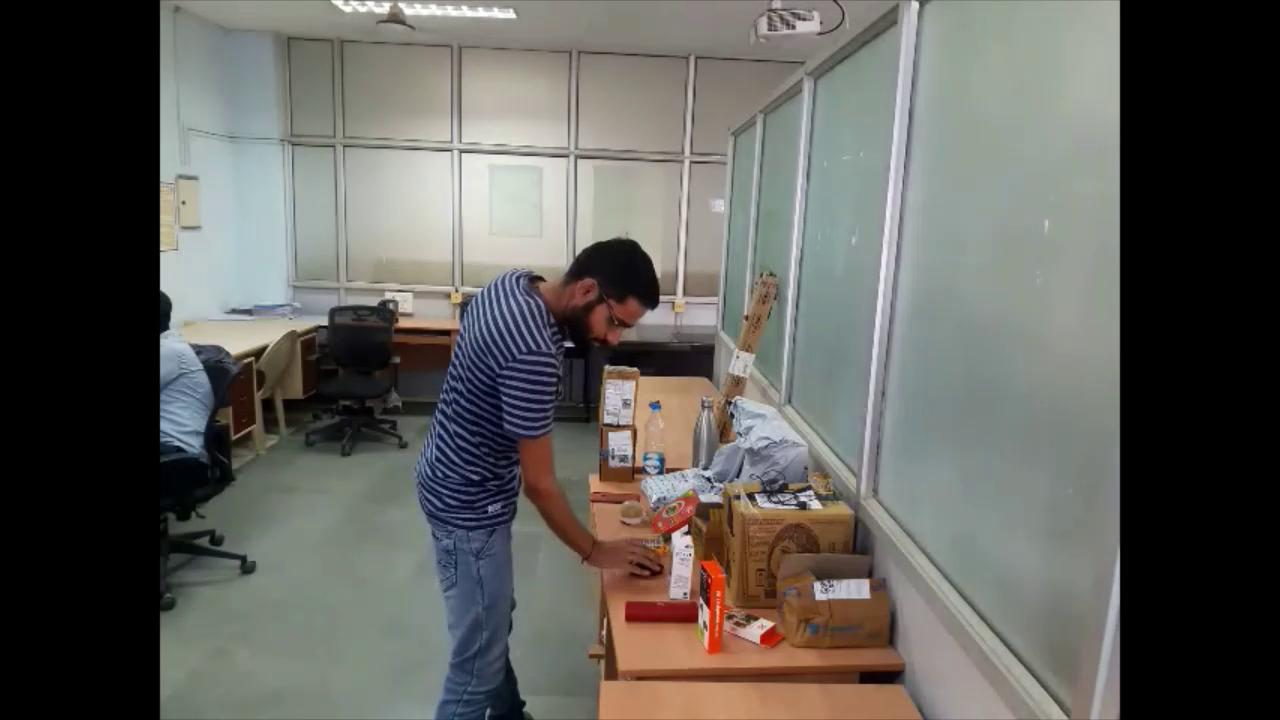Normal: (411, 233, 662, 720)
